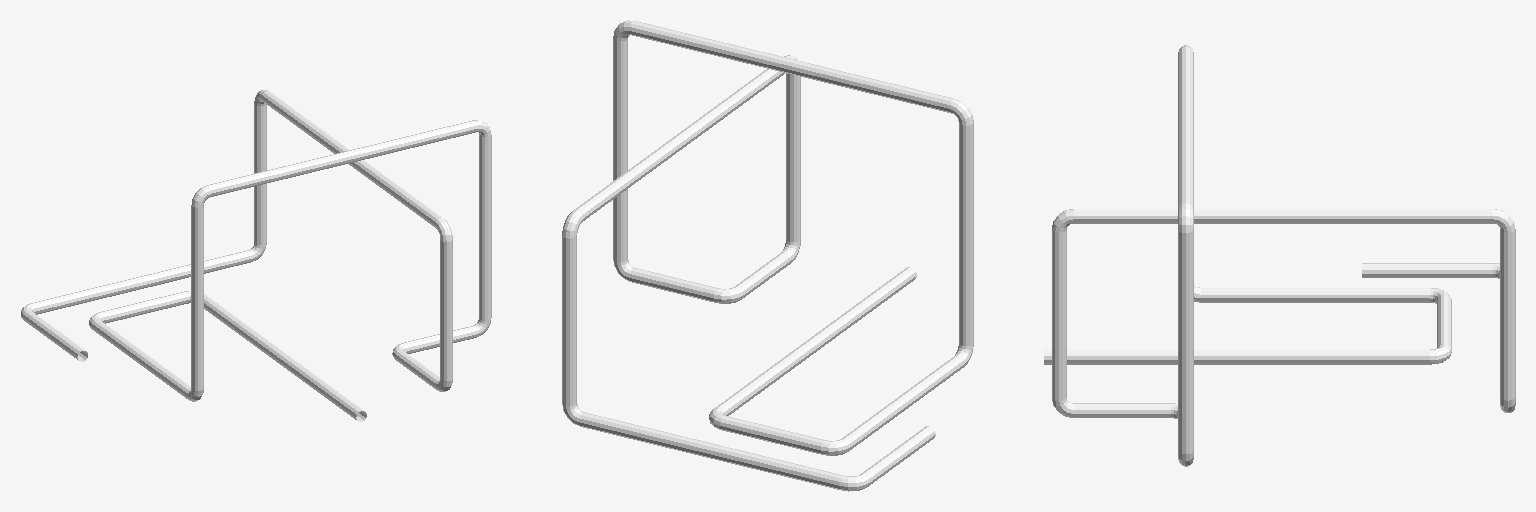
robot.urdf — complex_pipe:
<?xml version="1.0" encoding="utf-8"?>
<!-- This pipe's diameter is 150 mm and is 3 mm thick with principal coefficients of friction of 0.3 and 0.8 -->
<robot
  name="complex_pipe">
  <link
    name="complex_pipe_link">
    <inertial>
      <origin
        xyz="2.43617939524912 -0.839780634404355 0.998775473844368"
        rpy="0 0 0" />
      <mass
        value="63.1313238293648" />
      <inertia
        ixx="223.011913224004"
        ixy="38.7551478764222"
        ixz="-34.116789457912"
        iyy="201.392790674475"
        iyz="33.0327977477418"
        izz="270.652856972281" />
    </inertial>
    <visual>
      <origin
        xyz="0 0 0"
        rpy="0 0 0" />
      <geometry>
        <mesh
          filename="package://pir-b-001/meshes/complex_pipe_link.STL" />
      </geometry>
      <material
        name="">
        <color
          rgba="1 1 1 1" />
      </material>
    </visual>
    <collision>
      <origin
        xyz="0 0 0"
        rpy="0 0 0" />
      <geometry>
        <mesh
          filename="package://pir-b-001/meshes/complex_pipe_link.STL" />
      </geometry>
      <surface>
        <friction>
          <ode>
            <mu>0.3</mu> <!-- Friction coefficient in the first direction -->
            <mu2>0.8</mu2> <!-- Friction coefficient in the second direction -->
          </ode>
        </friction>
      </surface>
    </collision>
  </link>

  <gazebo>
    <static>true</static>
  </gazebo>
  <gazebo reference="complex_pipe_link">
    <material>Gazebo/BlueTransparent</material>
  </gazebo>

</robot>

--- Render facts (derived) ---
The picture shows the robot from 3 angles, left to right: view 1: azimuth 30°, elevation 25°; view 2: azimuth 150°, elevation 25°; view 3: azimuth 270°, elevation 25°; orthographic projection.
Model complex_pipe with 1 links and 0 joints (none), rooted at complex_pipe_link, posed all joints at 0.
Visible links, largest first — view 1: complex_pipe_link; view 2: complex_pipe_link; view 3: complex_pipe_link.
Boxes of the visible links, x1,y1,x2,y2 form: complex_pipe_link: [21, 90, 491, 421]; complex_pipe_link: [562, 20, 973, 491]; complex_pipe_link: [1044, 45, 1515, 466].
Bounding box of the posed robot: 4.86 × 4.83 × 2.96 m (x, y, z).
Meshes: 1 distinct files referenced, 1 mesh visuals loaded (1 binary STL).